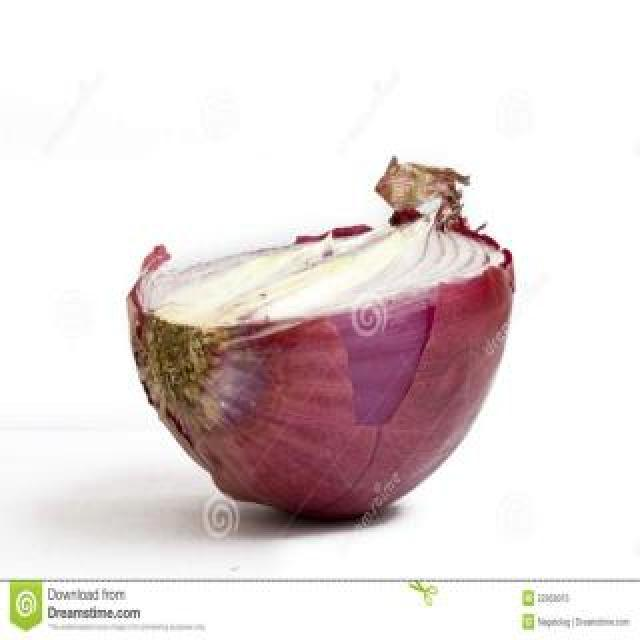Wet: (110, 194, 525, 531)
